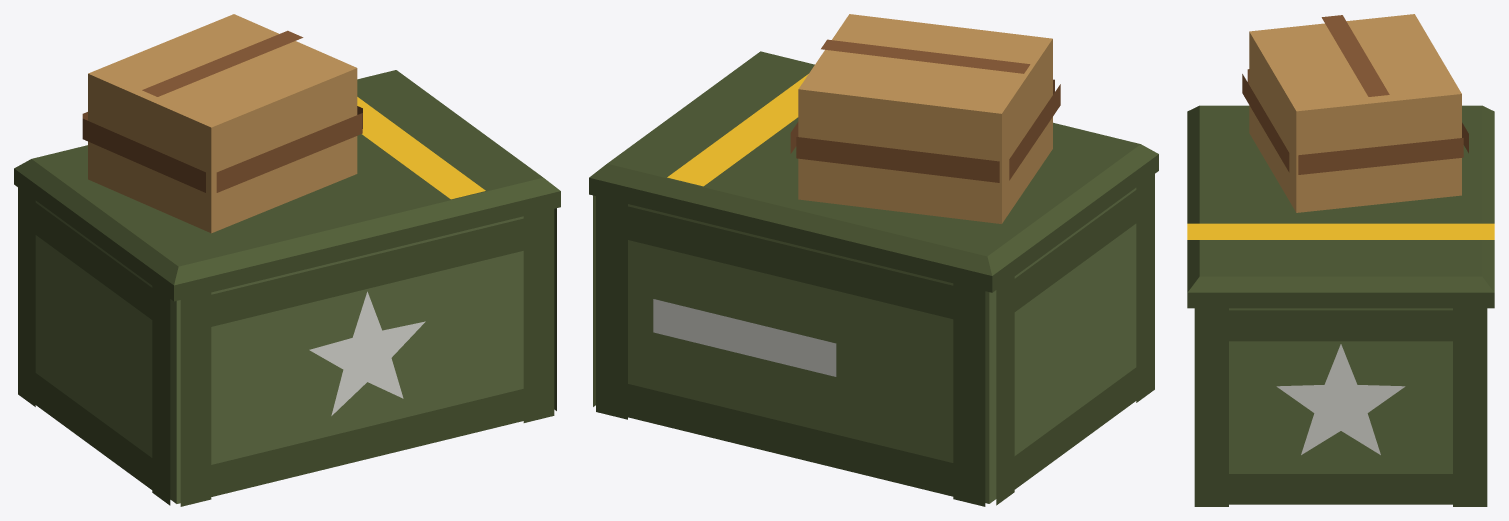
The model's file is supply_crate.glb.
3 renders of one model, left to right at view 1: azimuth 30°, elevation 25°; view 2: azimuth 150°, elevation 25°; view 3: azimuth 270°, elevation 25°, orthographic. The views are drawn at different scales.
Visible parts, largest first — view 1: supply_crate; view 2: supply_crate; view 3: supply_crate.
Boxes of the visible parts, x1,y1,x2,y2 form: supply_crate: (14, 14, 560, 506); supply_crate: (589, 14, 1158, 506); supply_crate: (1187, 14, 1494, 506).
Bounding box in the file's own units: 0.176 × 0.151 × 0.126.
